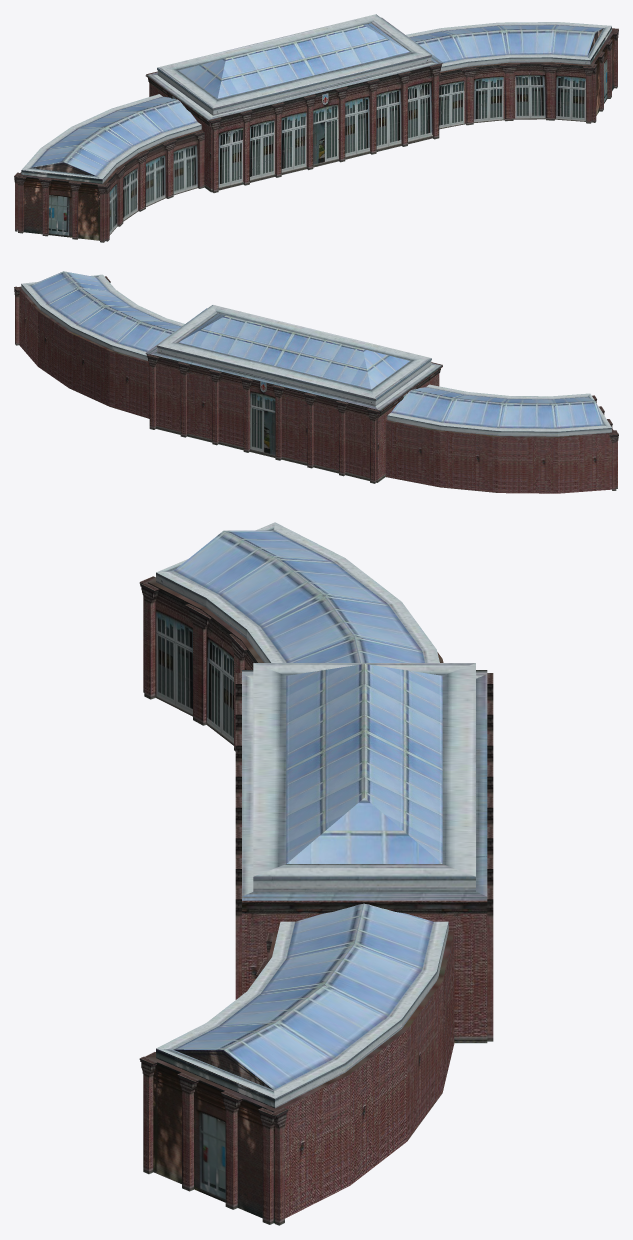
File: eu_station.glb
The picture shows the model from 3 angles, top to bottom: view 1: azimuth 30°, elevation 25°; view 2: azimuth 150°, elevation 25°; view 3: azimuth 270°, elevation 25°; orthographic projection. The views are drawn at different scales.
Visible parts, largest first — view 1: eu_00; view 2: eu_00; view 3: eu_00.
Part boxes in pixels (x1,y1,x2,y2): eu_00: (14,14,618,242); eu_00: (14,271,618,493); eu_00: (139,522,493,1225).
Size of the model in its own units: 41.19 by 6.56 by 10.43.
15 materials, 15 textured.
